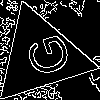G: (15, 31, 73, 83)
